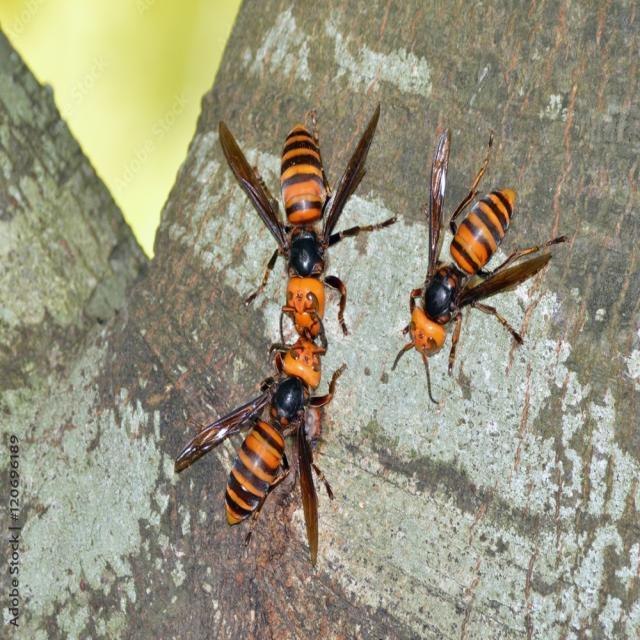Wasp: (380, 133, 588, 385), (199, 100, 394, 341), (166, 329, 341, 561)
